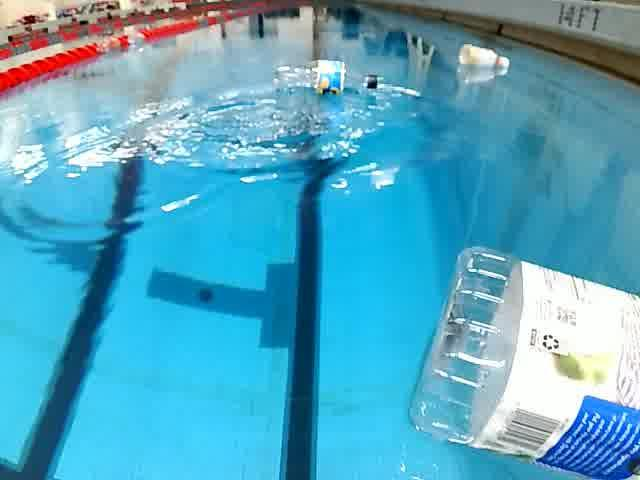Bottle: (405, 239, 640, 480), (264, 58, 386, 98), (450, 44, 516, 74)
